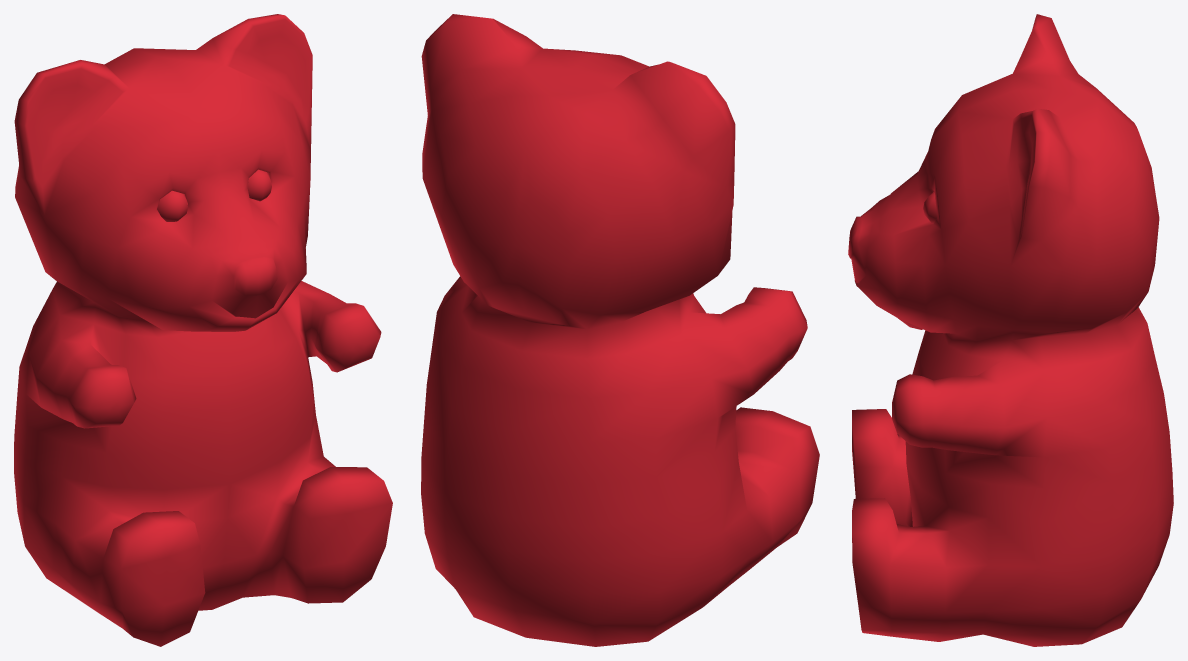
Rendered from bear_deco_respawn.fbx.
3 views of the same model, side by side, from view 1: azimuth 30°, elevation 25°; view 2: azimuth 150°, elevation 25°; view 3: azimuth 270°, elevation 25° (orthographic). The views are drawn at different scales.
Parts seen in each view (by area): view 1: 円.010; view 2: 円.010; view 3: 円.010.
Boxes of the visible parts, box(x1,y1,x2,y2) form: 円.010: box(14, 14, 392, 646); 円.010: box(421, 14, 819, 646); 円.010: box(848, 14, 1173, 646).
Size of the model in its own units: 21.01 by 35.53 by 19.36.
